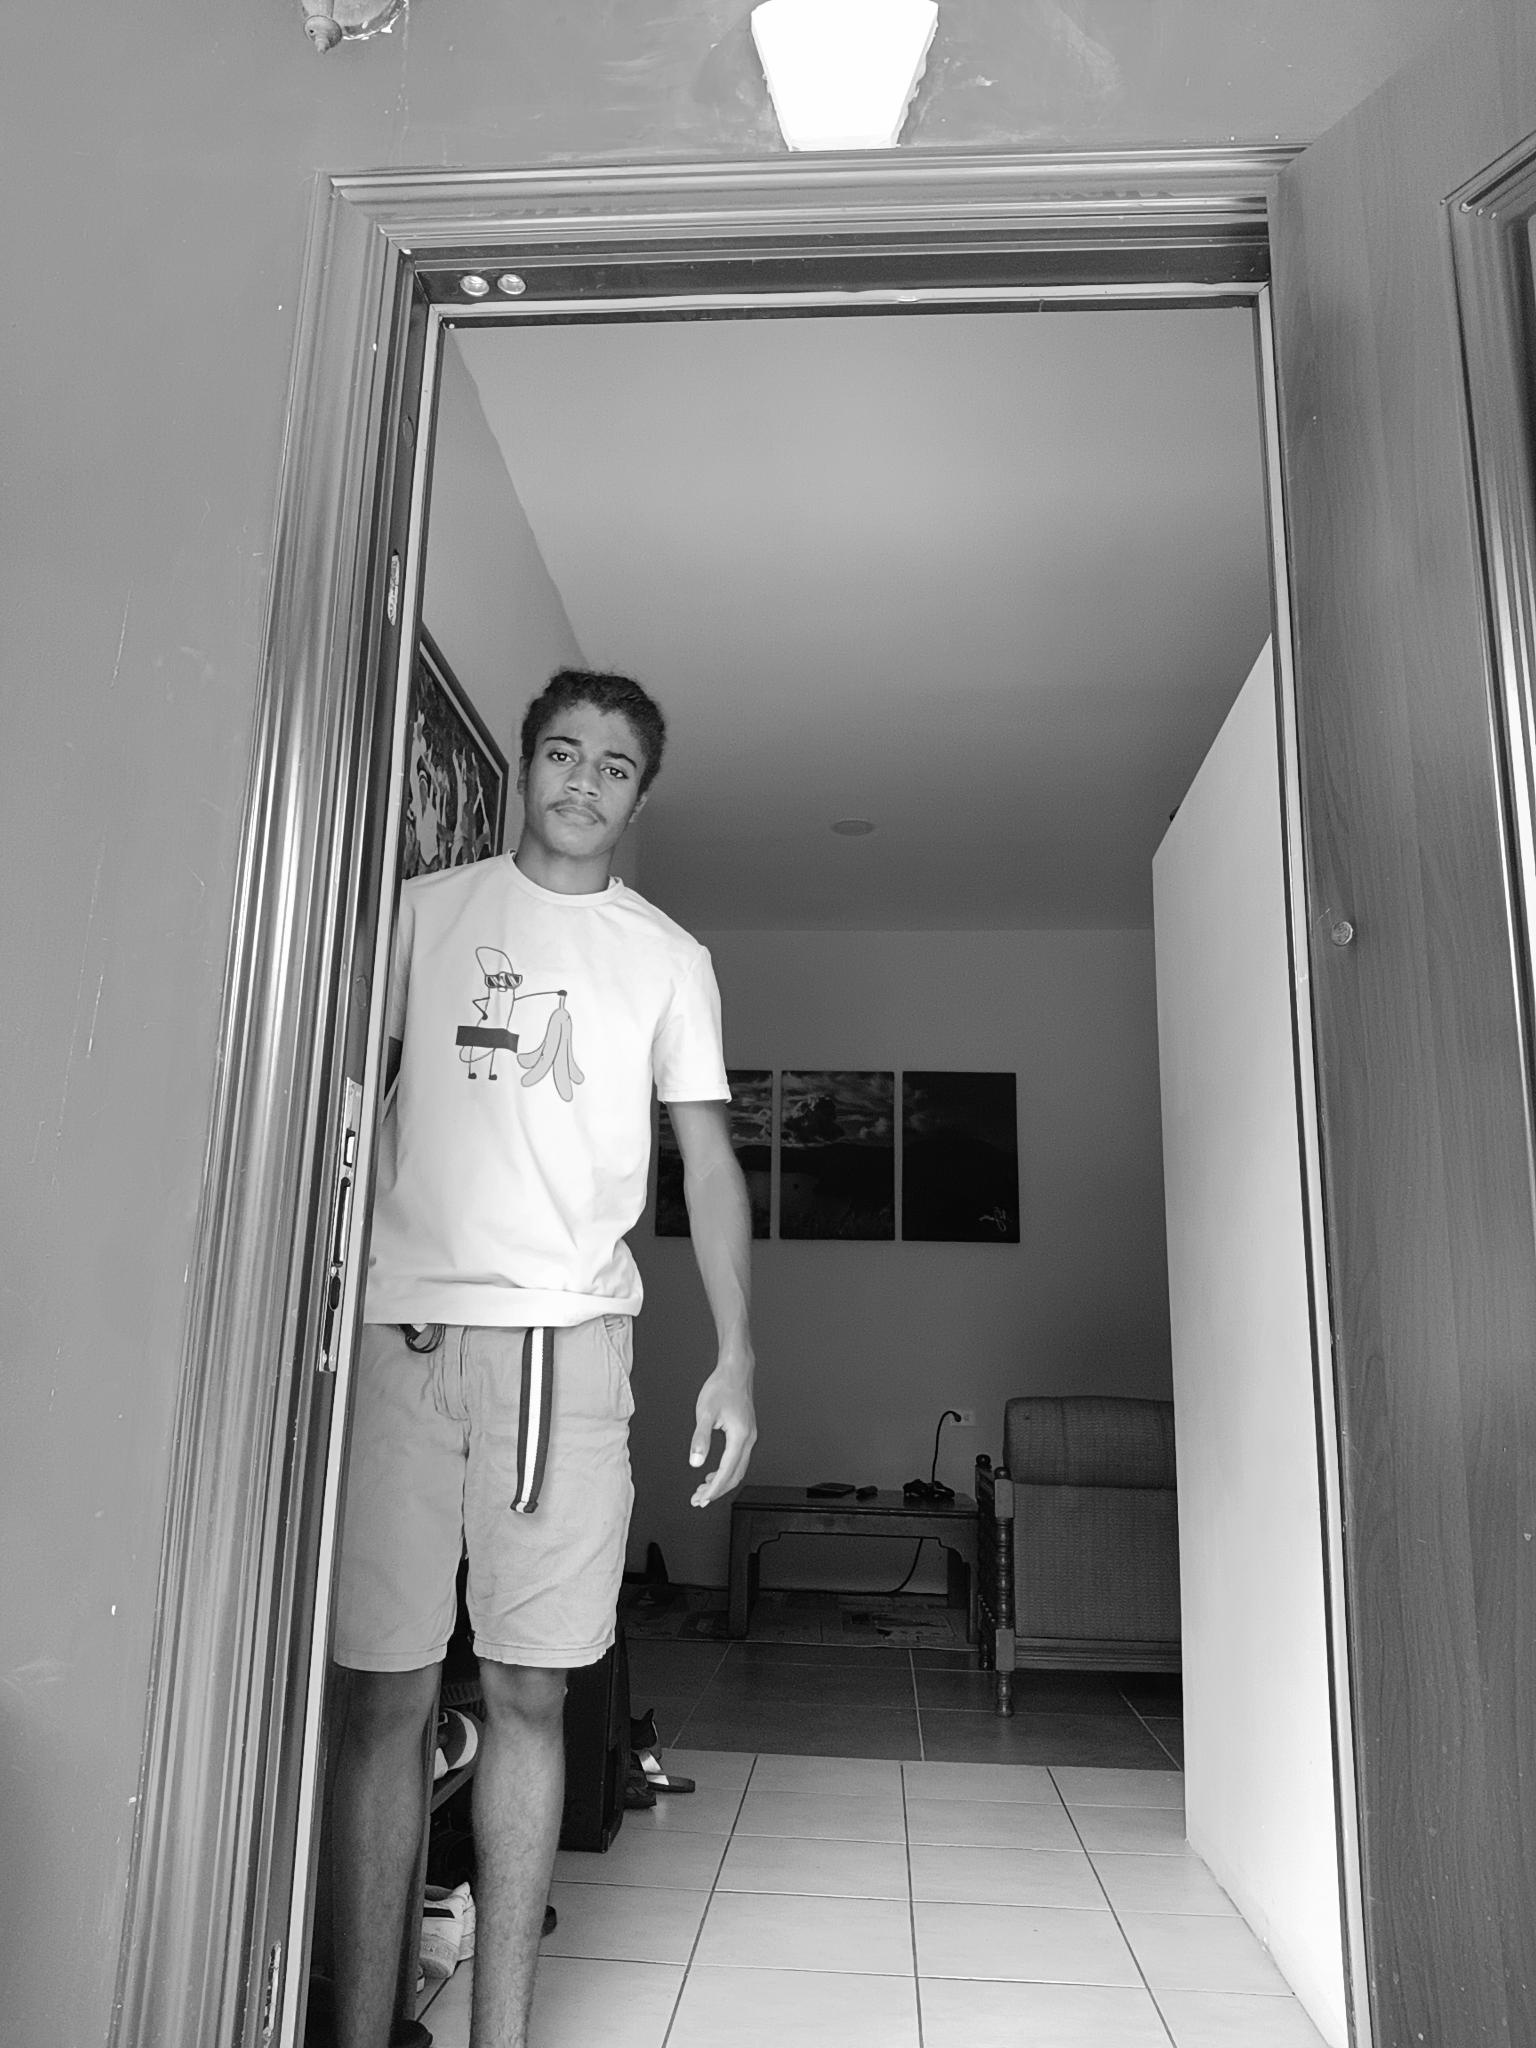front: (315, 663, 763, 2040)
